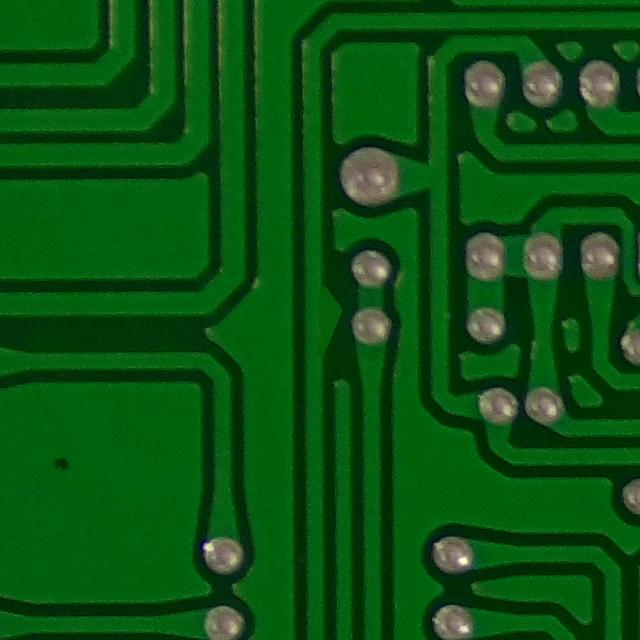spur: (290, 265, 351, 375)
